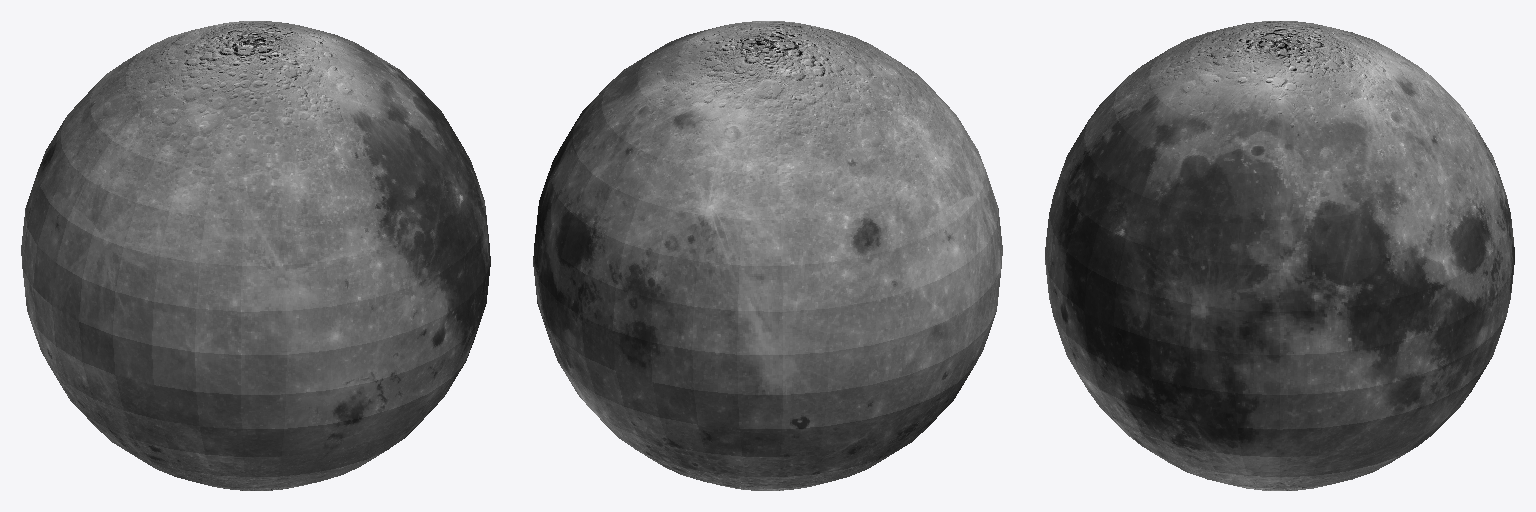
The picture shows the model from 3 angles: view 1: azimuth 30°, elevation 25°; view 2: azimuth 150°, elevation 25°; view 3: azimuth 270°, elevation 25°; orthographic projection.
Parts seen in each view (by area): view 1: Sphere.001_Sphere.002; view 2: Sphere.001_Sphere.002; view 3: Sphere.001_Sphere.002.
Boxes of the visible parts, x1=… form: Sphere.001_Sphere.002: x1=21, y1=21, x2=490, y2=490; Sphere.001_Sphere.002: x1=533, y1=21, x2=1002, y2=490; Sphere.001_Sphere.002: x1=1045, y1=21, x2=1514, y2=490.
Bounding box in the file's own units: 2 × 2 × 2.
Materials: 1 (1 with a texture image).